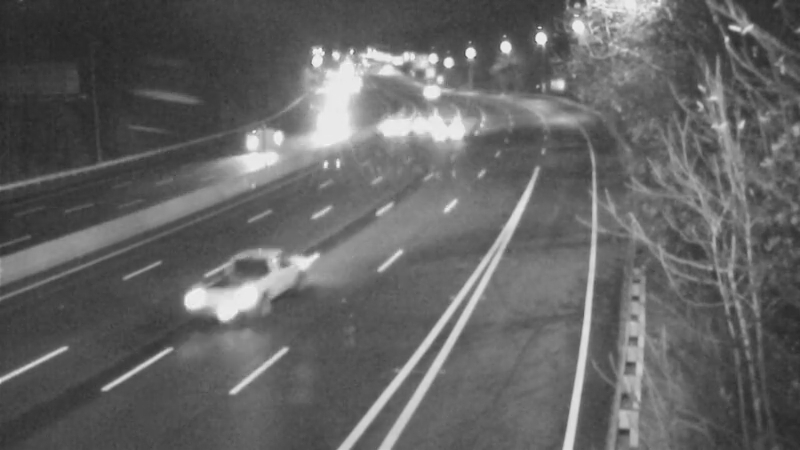vehicle: (184, 255, 264, 335), (408, 65, 458, 115), (394, 96, 444, 146), (364, 99, 414, 149), (420, 108, 470, 158), (220, 116, 270, 166), (302, 97, 352, 147)
